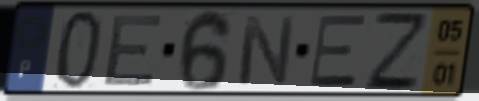0: (51, 8, 105, 92)
6: (176, 6, 237, 94)
E: (100, 11, 167, 88), (307, 13, 368, 89)
N: (234, 13, 298, 87)
Z: (363, 8, 429, 93)
